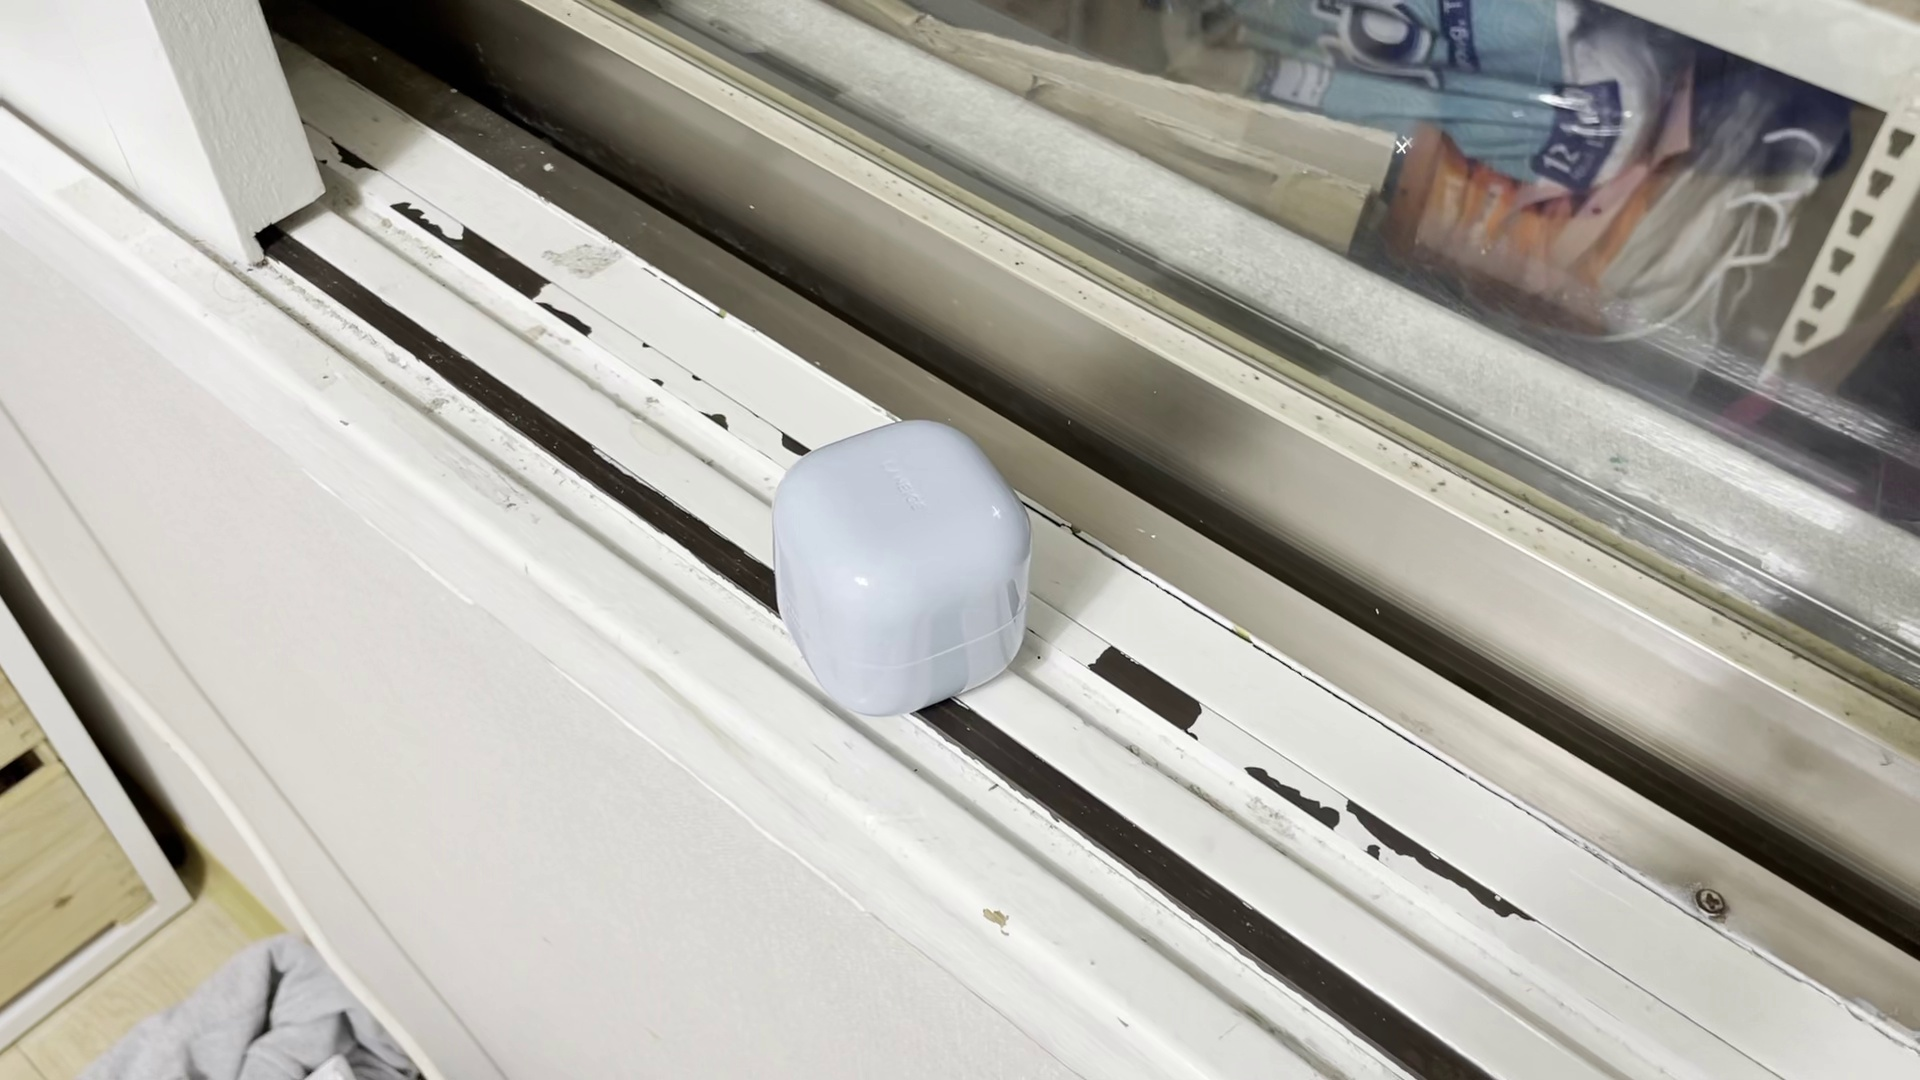cream: (771, 415, 1034, 719)
